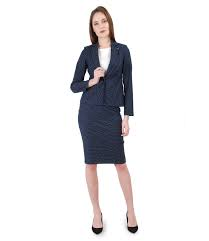F_W_suit jacket: (62, 45, 144, 113)
F_tailored skirt: (72, 104, 133, 174)
